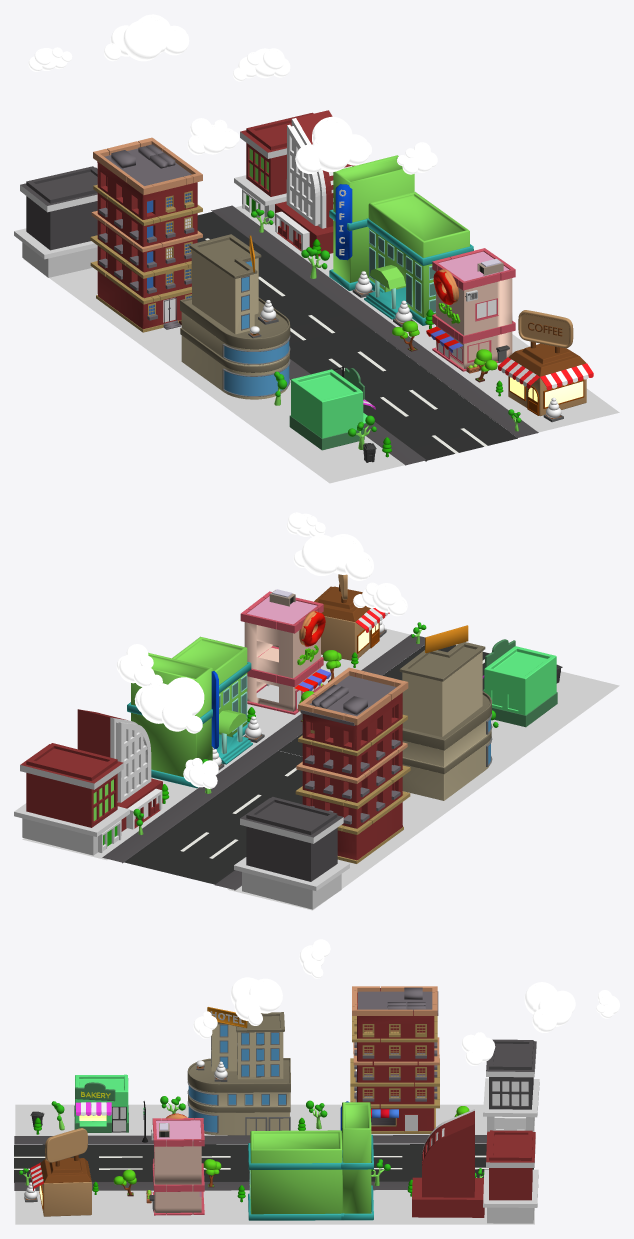
File: final-city.glb
The picture shows the model from 3 angles, top to bottom: view 1: azimuth 30°, elevation 25°; view 2: azimuth 150°, elevation 25°; view 3: azimuth 270°, elevation 25°; orthographic projection. The views are drawn at different scales.
Visible parts, largest first — view 1: Street.002, Ground, building-box, Side.001, Building-right, Cube.080, Home, Home-right-top.002, Cube.081, Building-left, Ground.001, Cube.066 (+33 smaller); view 2: Street.002, building-box, Ground, Home-right-top.001, Home-right-top.002, Cube.081, Cube.080, Home, Side.001, Building-left, Cube.066, Cube.086 (+25 smaller); view 3: Ground.001, Building-right, Street.002, building-box, Home, Cube.080, Ground, Home-right-top.001, Home-right-top.002, Building-left, Cube.086, Cube.081 (+29 smaller).
Boxes of the visible parts, x1=… form: Street.002: x1=197, y1=212, x2=517, y2=461; Ground: x1=23, y1=259, x2=404, y2=483; building-box: x1=97, y1=161, x2=197, y2=329; Side.001: x1=211, y1=205, x2=538, y2=437; Building-right: x1=368, y1=192, x2=469, y2=317; Cube.080: x1=180, y1=297, x2=290, y2=399; Home: x1=275, y1=110, x2=354, y2=256; Home-right-top.002: x1=20, y1=166, x2=97, y2=250; Cube.081: x1=189, y1=234, x2=261, y2=334; Building-left: x1=333, y1=155, x2=414, y2=282; Ground.001: x1=235, y1=205, x2=619, y2=432; Cube.066: x1=291, y1=369, x2=363, y2=438; Street.002: x1=124, y1=645, x2=489, y2=884; building-box: x1=302, y1=673, x2=402, y2=860; Ground: x1=228, y1=671, x2=619, y2=910; Home-right-top.001: x1=20, y1=743, x2=123, y2=827; Home-right-top.002: x1=240, y1=797, x2=343, y2=881; Cube.081: x1=399, y1=642, x2=485, y2=736; Cube.080: x1=402, y1=691, x2=491, y2=800; Home: x1=77, y1=709, x2=162, y2=831; Side.001: x1=102, y1=634, x2=424, y2=863; Building-left: x1=131, y1=652, x2=212, y2=776; Cube.066: x1=484, y1=646, x2=556, y2=715; Cube.086: x1=244, y1=622, x2=320, y2=711; Ground.001: x1=15, y1=1190, x2=534, y2=1224; Building-right: x1=250, y1=1130, x2=342, y2=1214; Street.002: x1=14, y1=1144, x2=533, y2=1182; building-box: x1=357, y1=988, x2=434, y2=1130; Home: x1=412, y1=1109, x2=484, y2=1217; Cube.080: x1=187, y1=1058, x2=290, y2=1135; Ground: x1=15, y1=1104, x2=534, y2=1135; Home-right-top.001: x1=486, y1=1130, x2=535, y2=1200; Home-right-top.002: x1=486, y1=1039, x2=536, y2=1109; Building-left: x1=342, y1=1102, x2=371, y2=1213; Cube.086: x1=154, y1=1141, x2=201, y2=1213; Cube.081: x1=211, y1=1012, x2=284, y2=1079.
Bounding box in the file's own units: 3.41 × 2.39 × 6.94.
